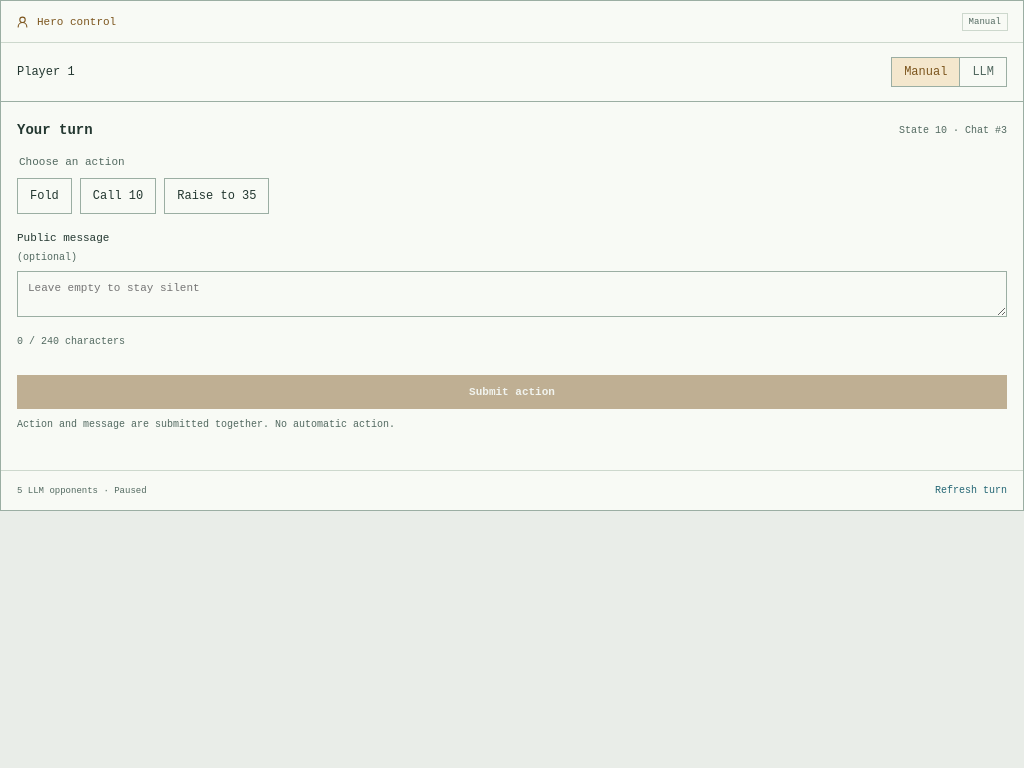
manual hero › submits the selected exact legal key, frozen version/token and optional message once
Expected: the button "Submit action" is disabled, top-left (17, 375), bottom-right (1007, 409)
Click the button "Raise to 35".
click(217, 196)  # box top-left (164, 178), bottom-right (269, 214)
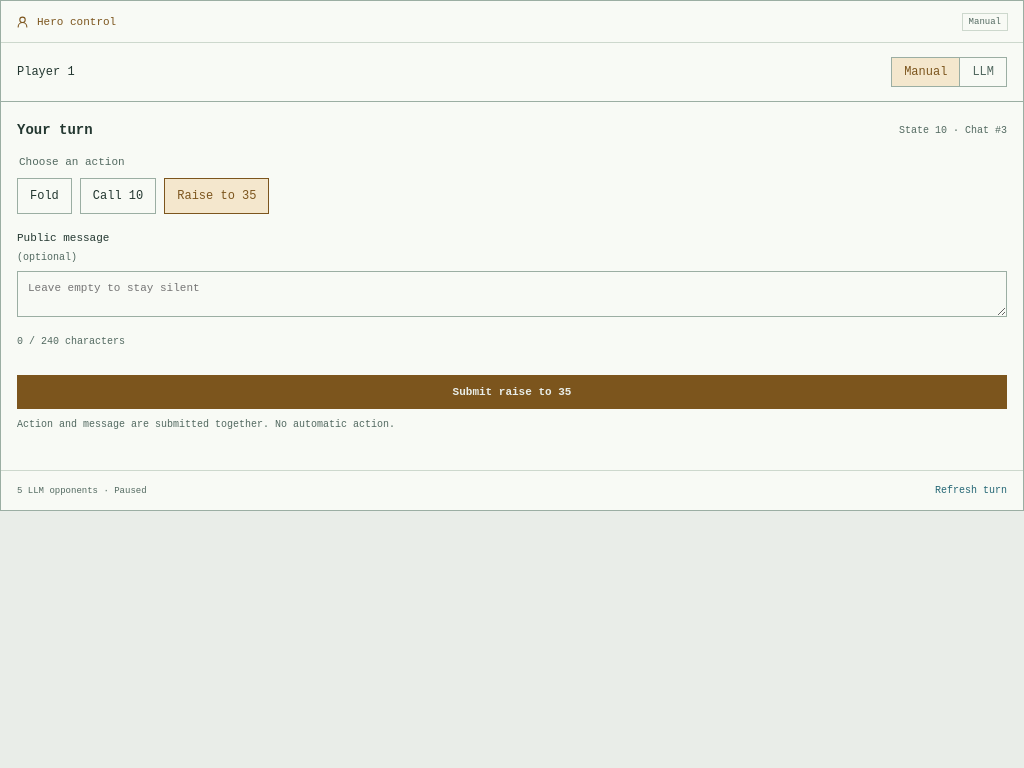
Type "A public claim" into the text box labelled "Public message".
click(512, 294); type("A public claim")  # box top-left (17, 271), bottom-right (1007, 317)
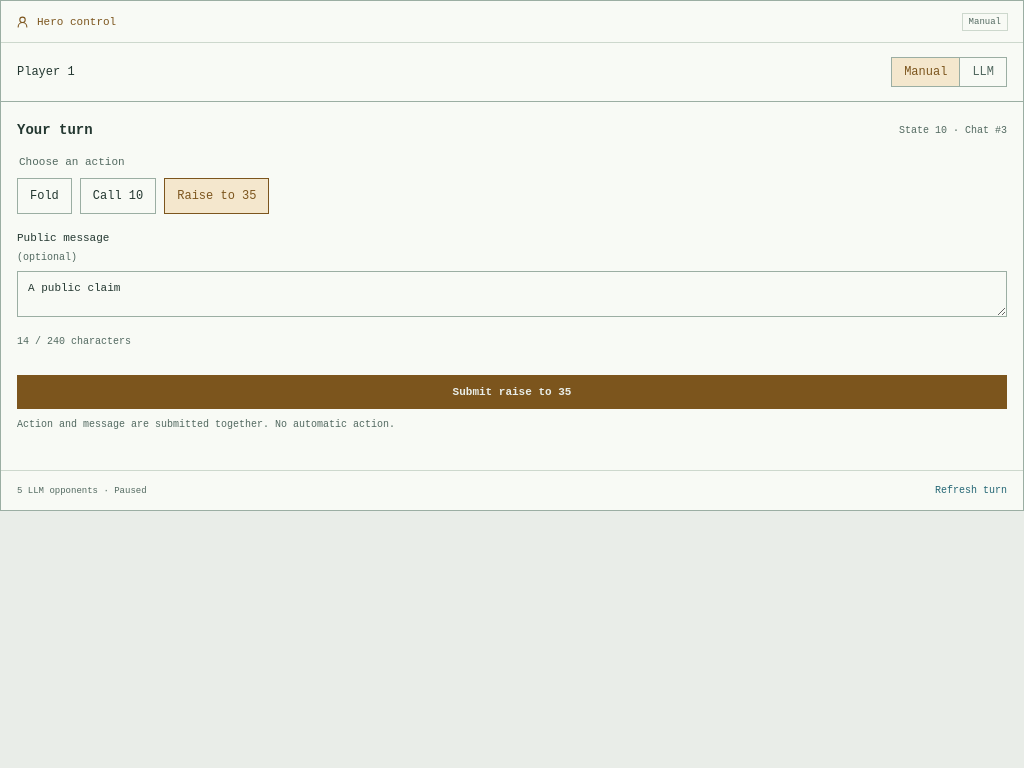
Click the button "Submit raise to 35".
click(512, 392)  # box top-left (17, 375), bottom-right (1007, 409)
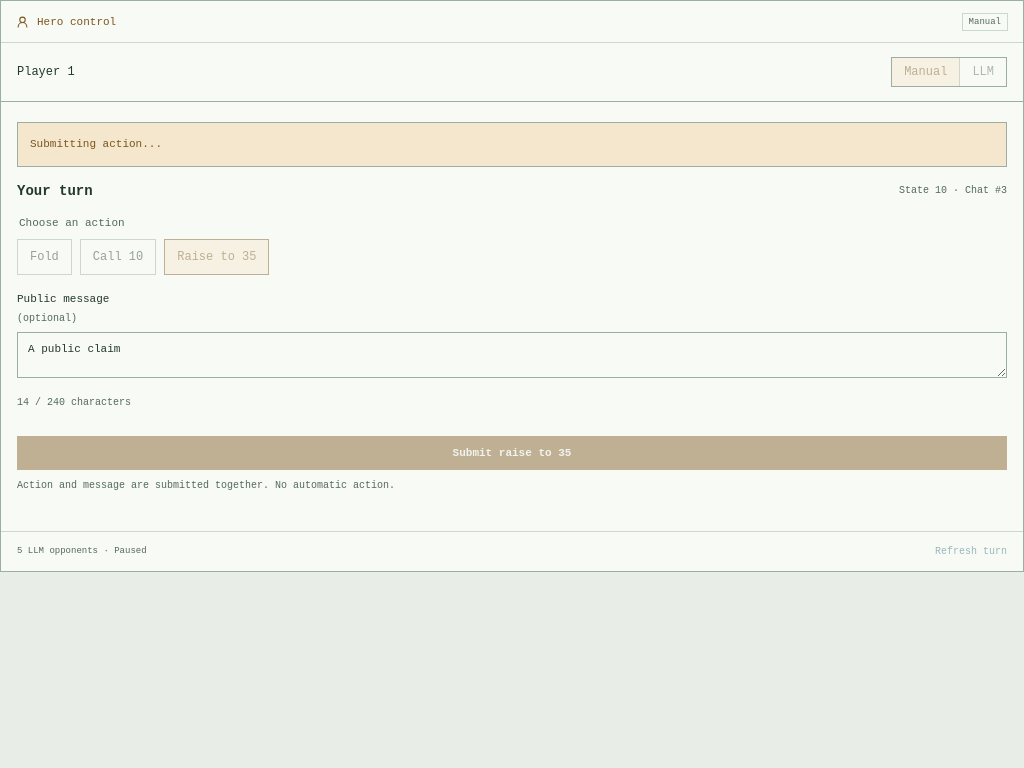
Click the button "Submit raise to 35".
click(512, 453)  # box top-left (17, 436), bottom-right (1007, 470)
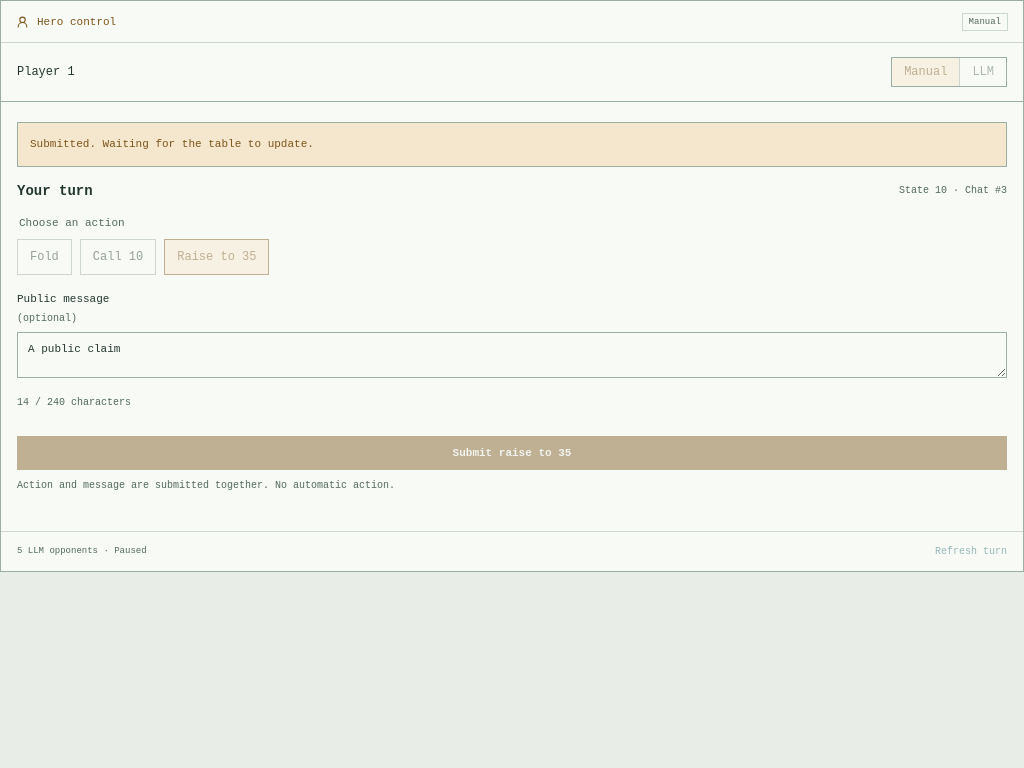
Expected: the button "Submit raise to 35" is disabled, top-left (17, 436), bottom-right (1007, 470)
Expected: the text "Submitted. Waiting for the table to update." is shown, top-left (17, 122), bottom-right (1007, 167)
